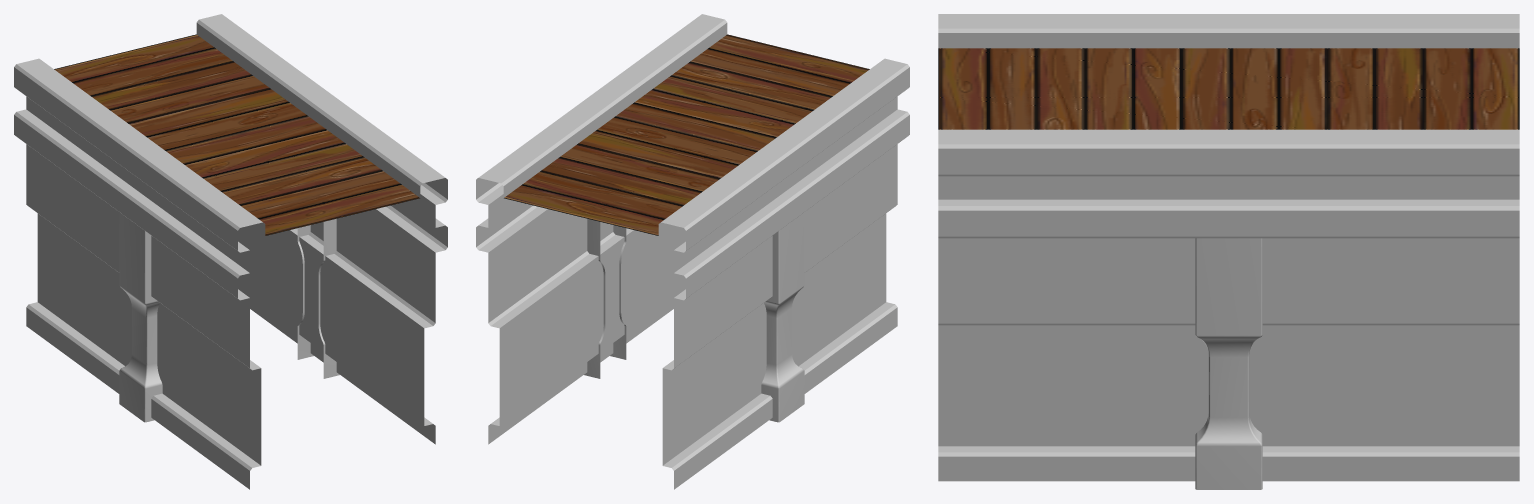
File: Treadmill.fbx
3 renders of one model, left to right at view 1: azimuth 30°, elevation 25°; view 2: azimuth 150°, elevation 25°; view 3: azimuth 270°, elevation 25°, orthographic. The views are drawn at different scales.
Visible parts, largest first — view 1: Treadmill, Treadmill_Pilards; view 2: Treadmill, Treadmill_Pilards; view 3: Treadmill, Treadmill_Pilards.
Part boxes in pixels (x1=…): Treadmill: x1=14, y1=14, x2=447, y2=489; Treadmill_Pilards: x1=119, y1=212, x2=339, y2=422; Treadmill: x1=476, y1=14, x2=909, y2=489; Treadmill_Pilards: x1=584, y1=212, x2=804, y2=422; Treadmill: x1=938, y1=14, x2=1519, y2=481; Treadmill_Pilards: x1=1195, y1=238, x2=1262, y2=489.
Size of the model in its own units: 0.5418 by 0.6606 by 1.
